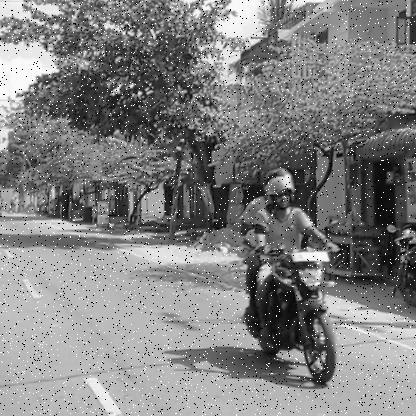motorcycle: (239, 246, 349, 387)
